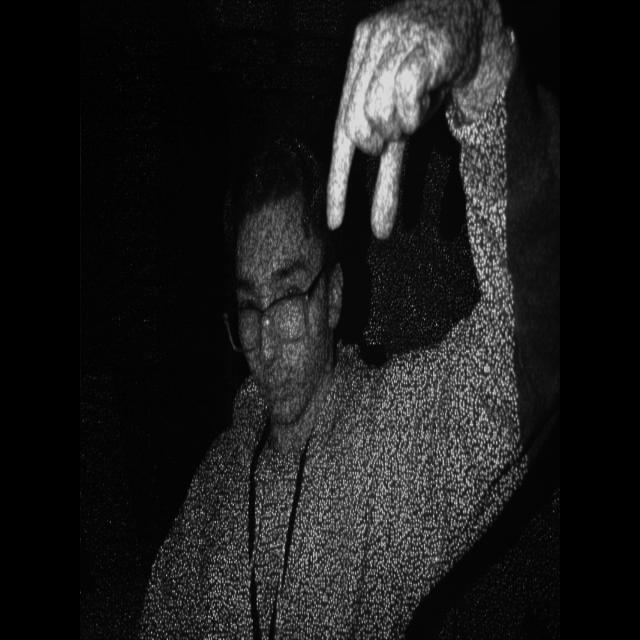Q: (318, 0, 485, 247)
